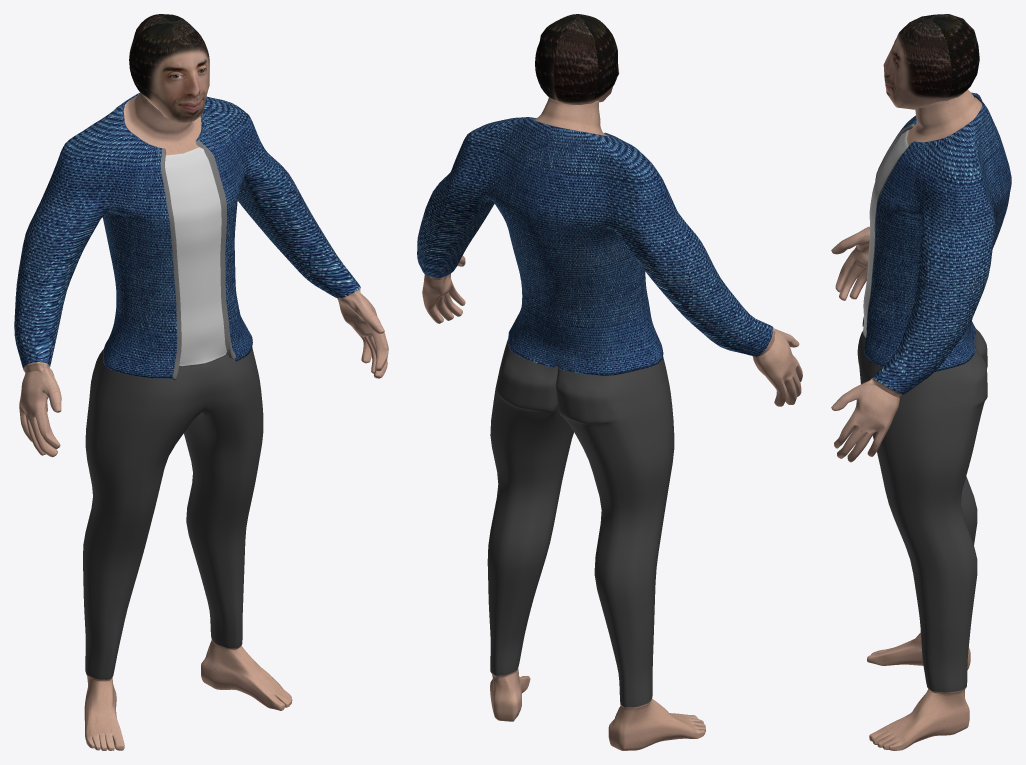
The model's file is herr mate.fbx.
The picture shows the model from 3 angles, left to right: view 1: azimuth 30°, elevation 25°; view 2: azimuth 150°, elevation 25°; view 3: azimuth 270°, elevation 25°; orthographic projection. The views are drawn at different scales.
Parts seen in each view (by area): view 1: pasted__group4; view 2: pasted__group4; view 3: pasted__group4.
Part boxes in pixels (box(x1,y1,x2,y2)): pasted__group4: box(14, 14, 388, 750); pasted__group4: box(417, 14, 802, 750); pasted__group4: box(831, 14, 1011, 750).
Size of the model in its own units: 6.02 by 11.28 by 2.69.
